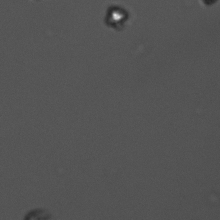Living Cell: (104, 5, 129, 29)
